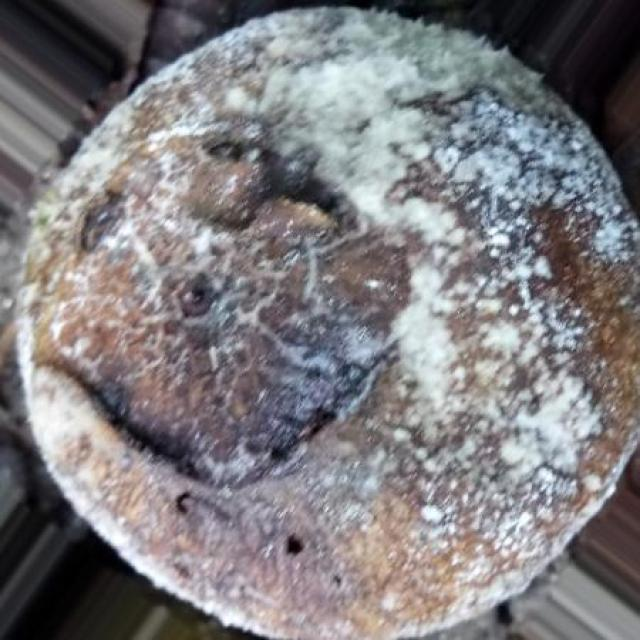Phytopthora: (19, 9, 640, 639)
